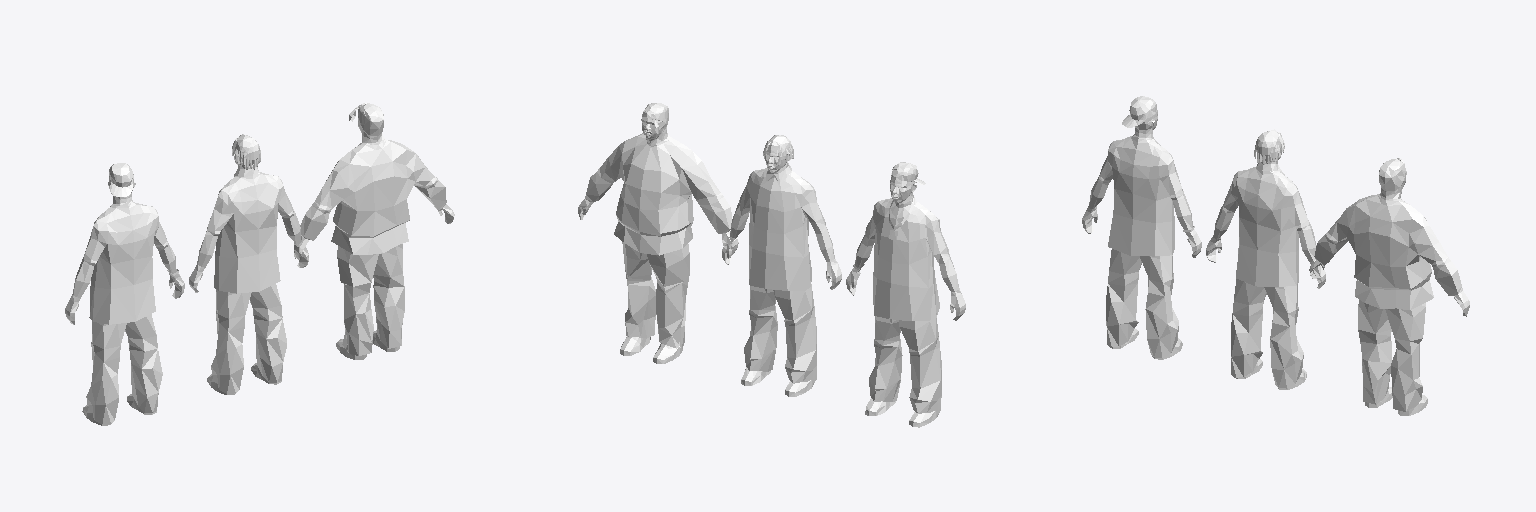
Rendered from grove.obj.
3 renders of one model, left to right at view 1: azimuth 30°, elevation 25°; view 2: azimuth 150°, elevation 25°; view 3: azimuth 330°, elevation 25°, orthographic.
Parts seen in each view (by area): view 1: unnamed.085, unnamed.087, unnamed.086; view 2: unnamed.085, unnamed.087, unnamed.086; view 3: unnamed.085, unnamed.087, unnamed.086.
Part boxes in pixels (x1,y1,x2,y2): unnamed.085: (294, 103, 454, 359); unnamed.087: (65, 163, 184, 425); unnamed.086: (189, 134, 308, 394); unnamed.085: (578, 103, 738, 363); unnamed.087: (846, 162, 965, 427); unnamed.086: (722, 135, 841, 396); unnamed.085: (1309, 158, 1469, 415); unnamed.087: (1082, 96, 1201, 359); unnamed.086: (1206, 129, 1325, 389).
Bounding box in the file's own units: 3.08 × 1.91 × 0.4064.